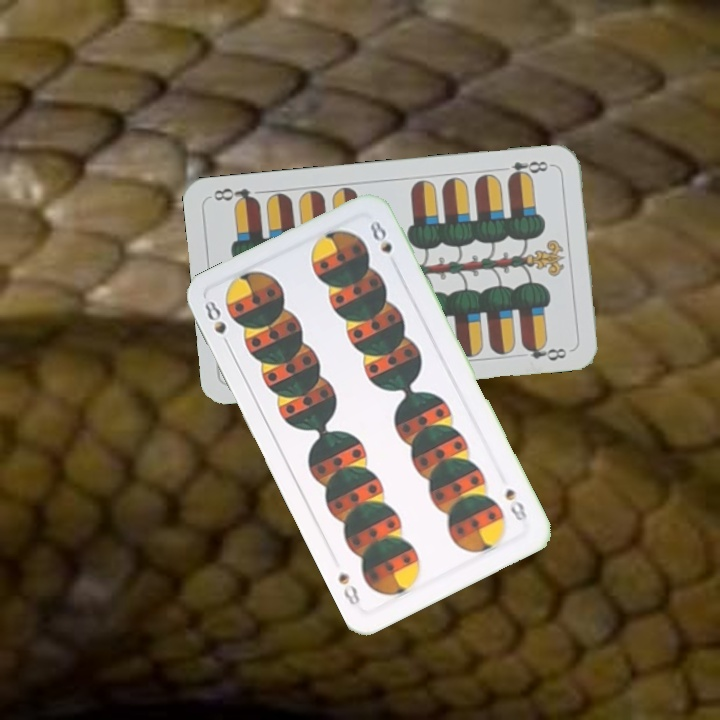E8: (496, 157, 555, 182)
S8: (200, 296, 234, 352), (501, 484, 530, 525)
